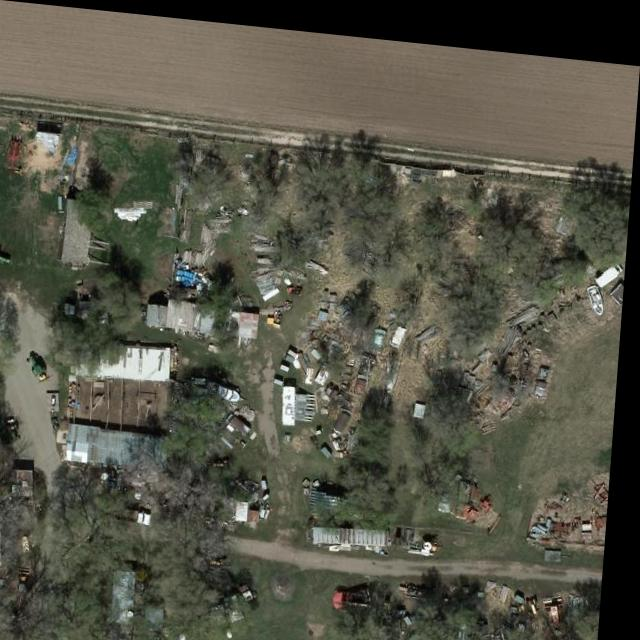vehicle: (452, 464, 491, 512), (339, 575, 384, 607), (358, 346, 382, 388), (598, 248, 628, 275), (119, 505, 160, 522), (373, 318, 393, 347), (444, 471, 462, 503), (538, 354, 556, 385), (341, 400, 358, 428), (396, 317, 411, 339)
